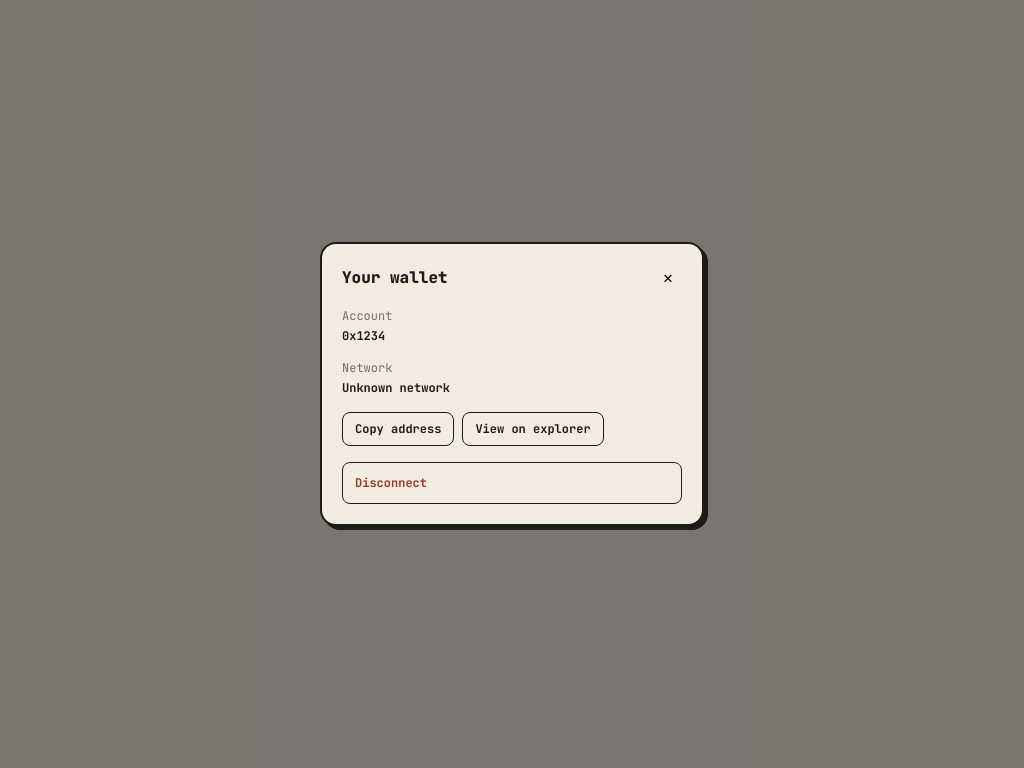
Test case: wallet dialog › copies the address and links to the current Base explorer
The image size is (1024, 768).
Click the button "Copy address": [398, 429] box left=342, top=412, right=454, bottom=446
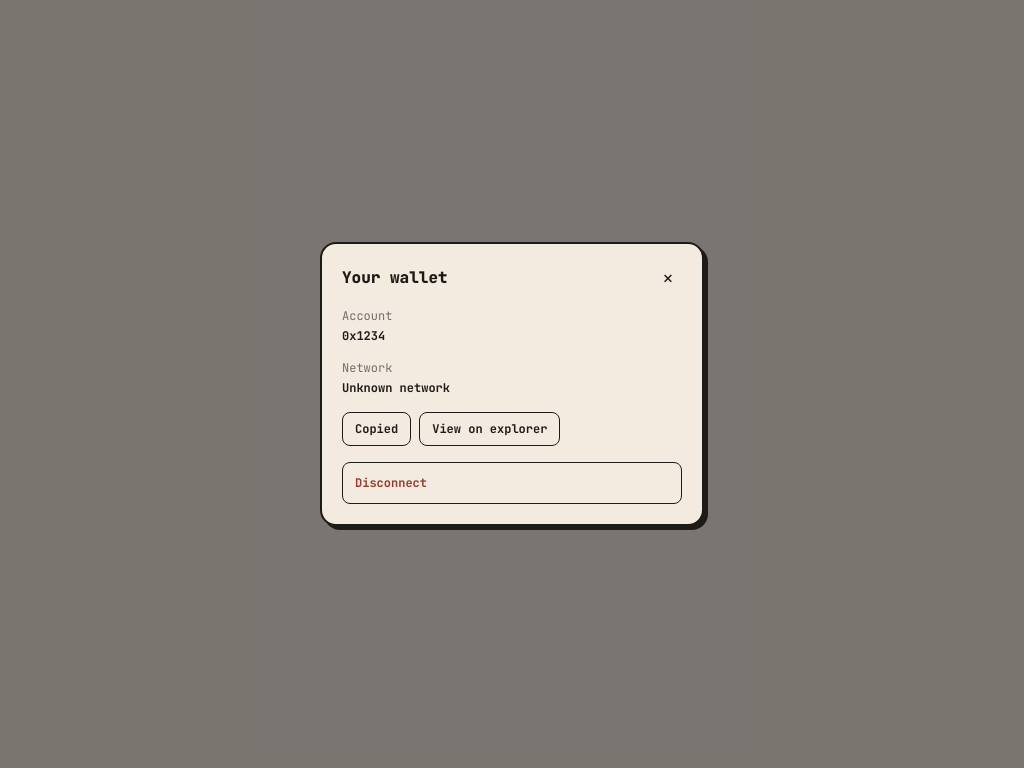
Now the button "Copied" is shown, box left=342, top=412, right=411, bottom=446
